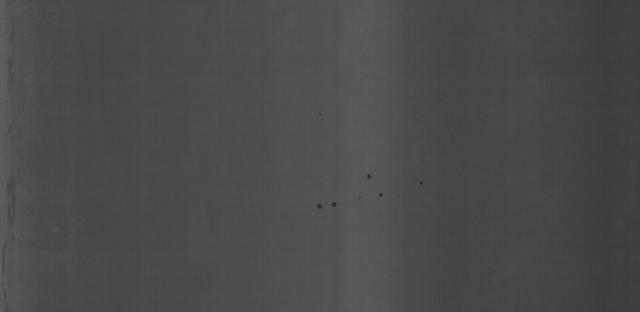oil_spot: (303, 164, 434, 216)
